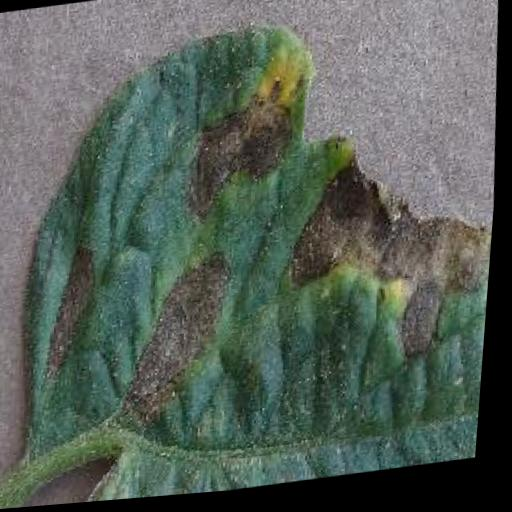Early Blight: (8, 0, 510, 488)
